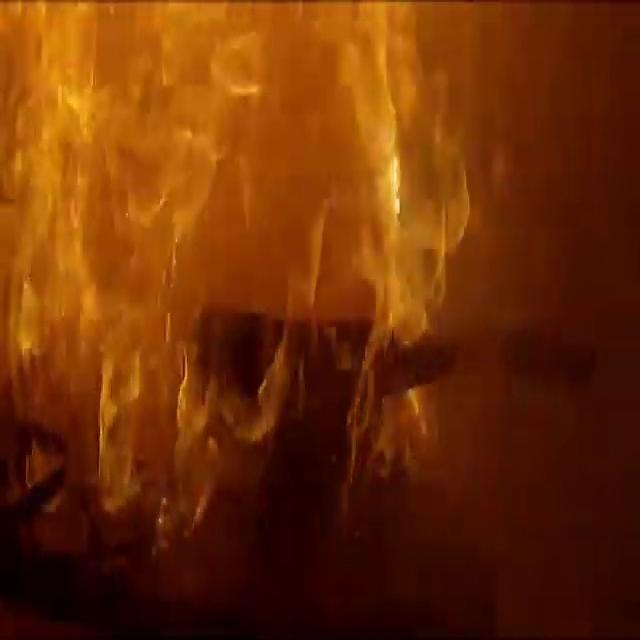fire: (4, 2, 482, 560)
